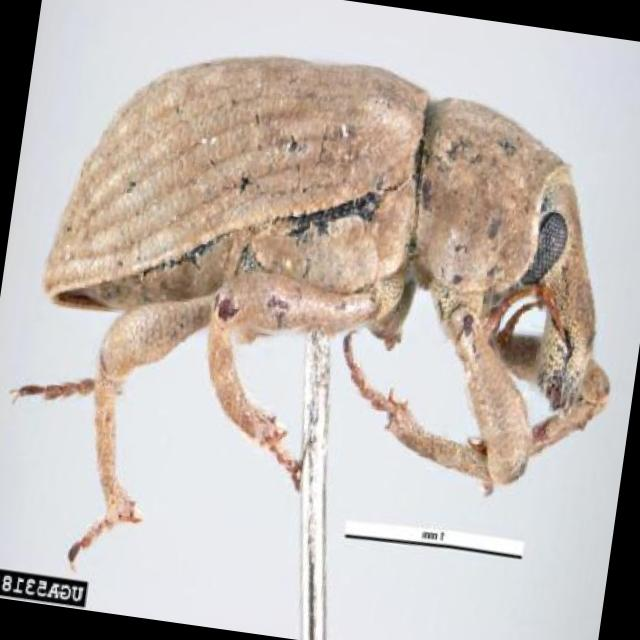rice-bug: (19, 25, 640, 524)
